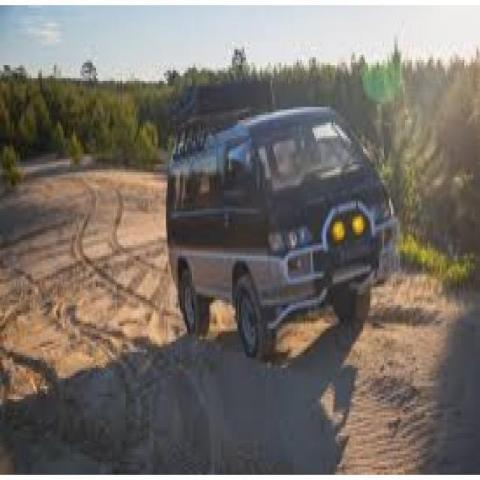van: (163, 102, 398, 361)
